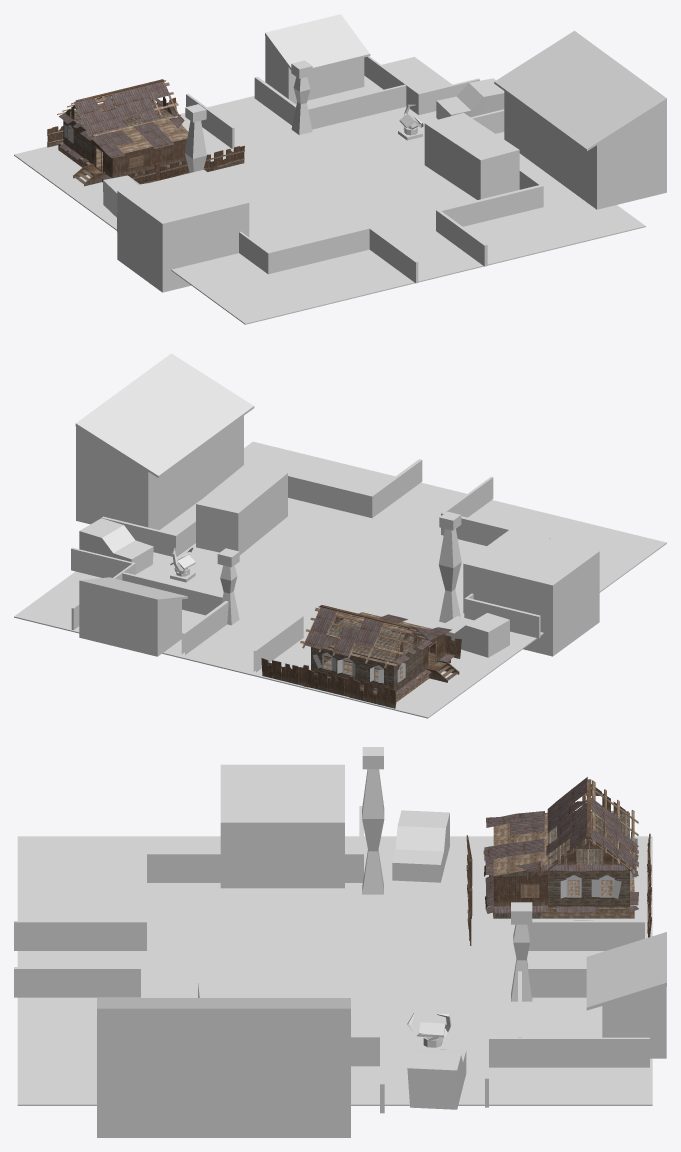
File: corrupted_village.fbx
3 renders of one model, top to bottom at view 1: azimuth 30°, elevation 25°; view 2: azimuth 150°, elevation 25°; view 3: azimuth 270°, elevation 25°, orthographic. The views are drawn at different scales.
Parts seen in each view (by area): view 1: Cube, Cube.004, Cube.003, Cube.005, LOD_02_WerandaWood.001, Cube.002, Cube.007, Cube.008, zabor.001, Cube.006; view 2: Cube, Cube.004, Cube.003, Cube.005, LOD_02_WerandaWood.001, Cube.002, Cube.007, Cube.008, zabor.001, Cube.006; view 3: Cube, Cube.004, Cube.003, LOD_02_WerandaWood.001, Cube.005, Cube.007, Cube.008, Cube.002, zabor.001, Cube.006.
Boxes of the visible parts, <box> form: Cube: <box>14,57,645,324</box>; Cube.004: <box>265,14,666,209</box>; Cube.003: <box>117,56,543,283</box>; Cube.005: <box>117,169,249,292</box>; LOD_02_WerandaWood.001: <box>55,79,188,186</box>; Cube.002: <box>424,113,519,199</box>; Cube.007: <box>103,78,504,217</box>; Cube.008: <box>185,60,312,172</box>; zabor.001: <box>47,97,244,184</box>; Cube.006: <box>398,104,423,140</box>; Cube: <box>14,441,666,718</box>; Cube.004: <box>75,353,254,656</box>; Cube.003: <box>71,459,550,672</box>; Cube.005: <box>463,529,599,656</box>; LOD_02_WerandaWood.001: <box>300,605,459,702</box>; Cube.002: <box>196,463,287,555</box>; Cube.007: <box>79,518,509,657</box>; Cube.008: <box>217,511,461,625</box>; zabor.001: <box>261,618,461,708</box>; Cube.006: <box>170,547,195,582</box>; Cube: <box>17,836,652,1105</box>; Cube.004: <box>97,932,666,1137</box>; Cube.003: <box>14,806,649,1113</box>; LOD_02_WerandaWood.001: <box>483,777,638,920</box>; Cube.005: <box>220,764,344,888</box>; Cube.007: <box>392,810,466,1109</box>; Cube.008: <box>362,747,532,1001</box>; Cube.002: <box>198,977,342,997</box>; zabor.001: <box>466,833,651,945</box>; Cube.006: <box>407,1013,451,1049</box>.
Size of the model in its own units: 45.88 by 11.62 by 41.14.
